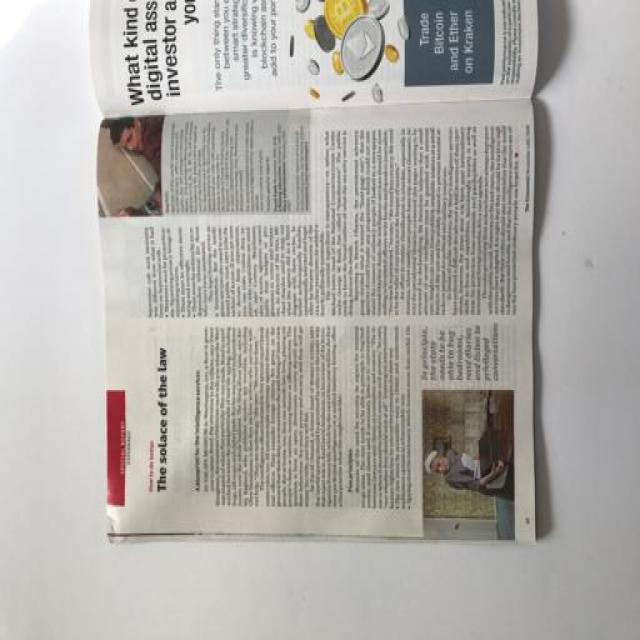paper: (69, 9, 583, 587)
